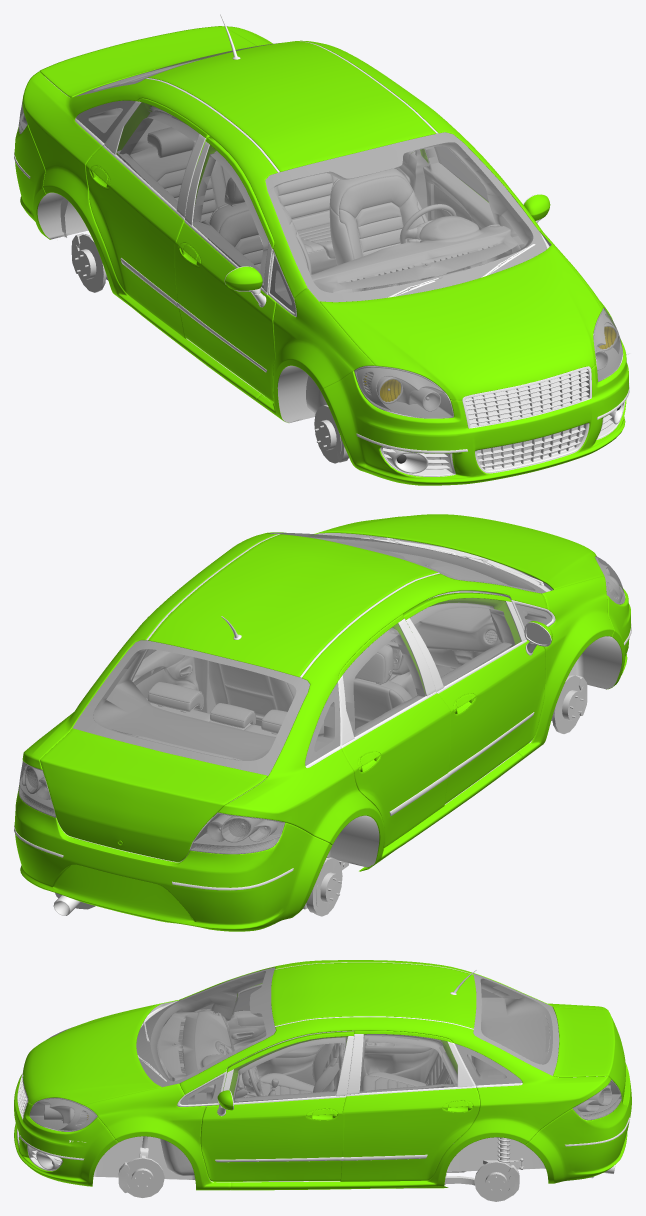
The model's file is fiat__linea_2006.glb.
3 renders of one model, top to bottom at view 1: azimuth 30°, elevation 25°; view 2: azimuth 150°, elevation 25°; view 3: azimuth 270°, elevation 25°, orthographic. The views are drawn at different scales.
Parts seen in each view (by area): view 1: body-material (×5), glass-material, alcantara-material, black-material (×2), chrome-material (×2), gray-material, sunburst-material (×2); view 2: body-material (×5), glass-material, alcantara-material, black-material, gray-material, chrome-material (×2), re-material, sunburst-material (×3), rev-material; view 3: body-material (×5), glass-material, black-material, alcantara-material, gray-material, chrome-material (×2), sunburst-material (×4), re-material.
Part boxes in pixels (box(x1,y1,x2,y2)): body-material (×5): box(14, 26, 628, 485); glass-material: box(18, 43, 622, 418); alcantara-material: box(117, 110, 520, 292); black-material (×2): box(37, 14, 630, 471); chrome-material (×2): box(75, 118, 629, 476); gray-material: box(89, 61, 532, 413); sunburst-material (×2): box(74, 239, 337, 458); body-material (×5): box(14, 514, 630, 931); glass-material: box(18, 532, 625, 854); alcantara-material: box(131, 551, 527, 736); black-material: box(45, 533, 621, 931); gray-material: box(93, 533, 546, 760); chrome-material (×2): box(14, 556, 625, 915); re-material: box(19, 763, 284, 853); sunburst-material (×3): box(319, 675, 583, 911); rev-material: box(20, 788, 278, 852); body-material (×5): box(14, 960, 631, 1190); glass-material: box(29, 967, 621, 1131); black-material: box(93, 962, 615, 1182); alcantara-material: box(158, 984, 471, 1102); gray-material: box(150, 971, 552, 1175); chrome-material (×2): box(17, 1011, 522, 1171); sunburst-material (×4): box(127, 1157, 511, 1201); re-material: box(572, 1080, 621, 1120).
Bounding box in the file's own units: 2.02 × 1.53 × 4.52.
